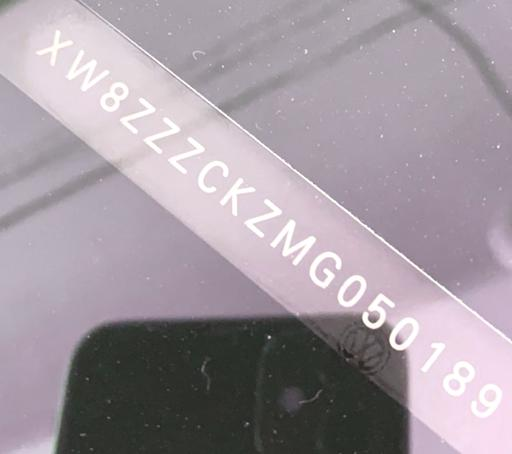letter: (270, 220, 316, 264), (464, 378, 504, 419), (68, 49, 108, 90), (168, 136, 206, 174), (220, 175, 256, 213), (246, 197, 282, 235), (309, 248, 343, 288), (146, 114, 180, 153), (38, 29, 74, 65), (360, 292, 394, 330), (441, 356, 475, 394), (120, 96, 156, 131), (416, 339, 450, 374), (198, 159, 230, 191), (336, 273, 366, 307), (390, 315, 420, 348), (101, 80, 129, 110)
